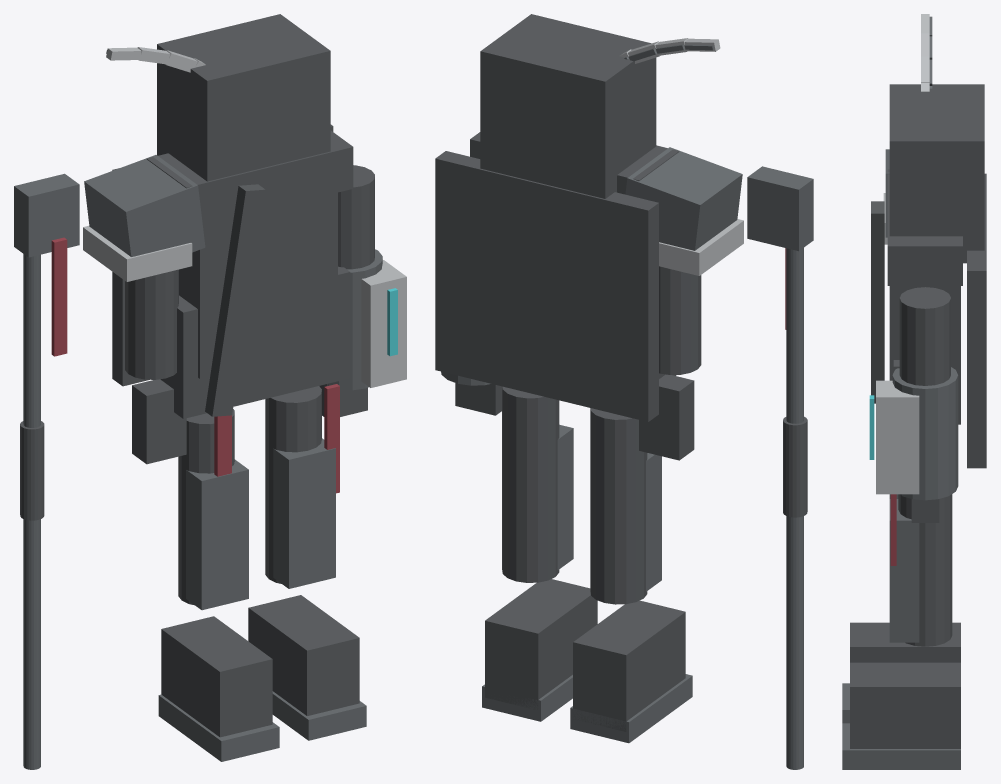
The model's file is ain_outfit_02_Jeogya_v01.glb.
3 views of the same model, side by side, from view 1: azimuth 30°, elevation 25°; view 2: azimuth 150°, elevation 25°; view 3: azimuth 270°, elevation 25° (orthographic). The views are drawn at different scales.
Visible parts, largest first — view 1: hood_shell, torso_shell, boot_L, boot_R, left_shoulder_plate, shin_plate_R, shin_plate_L, short_jacket, scythe_shaft_1, shoulder_yoke, asym_harness_2, sleeve_L (+17 smaller); view 2: back_mantle, hood_shell, boot_L, leg_base_R, leg_base_L, boot_R, scythe_shaft_1, left_shoulder_plate, scythe_head_base_1, sleeve_L, pouch_L, boot_sole_L (+7 smaller); view 3: hood_shell, boot_R, right_gauntlet, sleeve_R, leg_base_R, right_gauntlet_spine, back_mantle, shoulder_yoke, shin_plate_R, boot_L, boot_sole_R, asym_harness_2 (+6 smaller).
Boxes of the visible parts, left/top/right/bottom form: hood_shell: left=157, top=14, right=330, bottom=181; torso_shell: left=179, top=192, right=337, bottom=378; boot_L: left=161, top=616, right=272, bottom=737; boot_R: left=248, top=595, right=359, bottom=715; left_shoulder_plate: left=84, top=155, right=205, bottom=256; shin_plate_R: left=273, top=438, right=335, bottom=588; shin_plate_L: left=186, top=459, right=248, bottom=610; short_jacket: left=160, top=266, right=350, bottom=418; scythe_shaft_1: left=23, top=254, right=40, bottom=769; shoulder_yoke: left=147, top=130, right=353, bottom=225; asym_harness_2: left=205, top=184, right=265, bottom=416; sleeve_L: left=125, top=269, right=178, bottom=379; back_mantle: left=435, top=151, right=658, bottom=421; hood_shell: left=480, top=14, right=656, bottom=198; boot_L: left=573, top=600, right=685, bottom=731; leg_base_R: left=502, top=386, right=559, bottom=582; leg_base_L: left=590, top=408, right=647, bottom=604; boot_R: left=485, top=579, right=597, bottom=709; scythe_shaft_1: left=786, top=248, right=803, bottom=769; left_shoulder_plate: left=625, top=147, right=742, bottom=250; scythe_head_base_1: left=747, top=166, right=813, bottom=251; sleeve_L: left=659, top=266, right=701, bottom=374; pouch_L: left=639, top=374, right=694, bottom=460; boot_sole_L: left=570, top=674, right=692, bottom=743; hood_shell: left=889, top=84, right=984, bottom=263; boot_R: left=850, top=662, right=960, bottom=748; right_gauntlet: left=892, top=367, right=958, bottom=500; sleeve_R: left=899, top=287, right=950, bottom=385; leg_base_R: left=898, top=494, right=952, bottom=646; right_gauntlet_spine: left=876, top=380, right=919, bottom=494; back_mantle: left=967, top=173, right=986, bottom=468; shoulder_yoke: left=887, top=169, right=962, bottom=285; shin_plate_R: left=889, top=499, right=919, bottom=642; boot_L: left=850, top=622, right=960, bottom=662; boot_sole_R: left=842, top=723, right=960, bottom=769; asym_harness_2: left=871, top=201, right=884, bottom=403.
Bounding box in the file's own units: 0.99 × 1.84 × 0.365.
